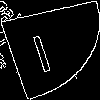I: (25, 25, 55, 74)
